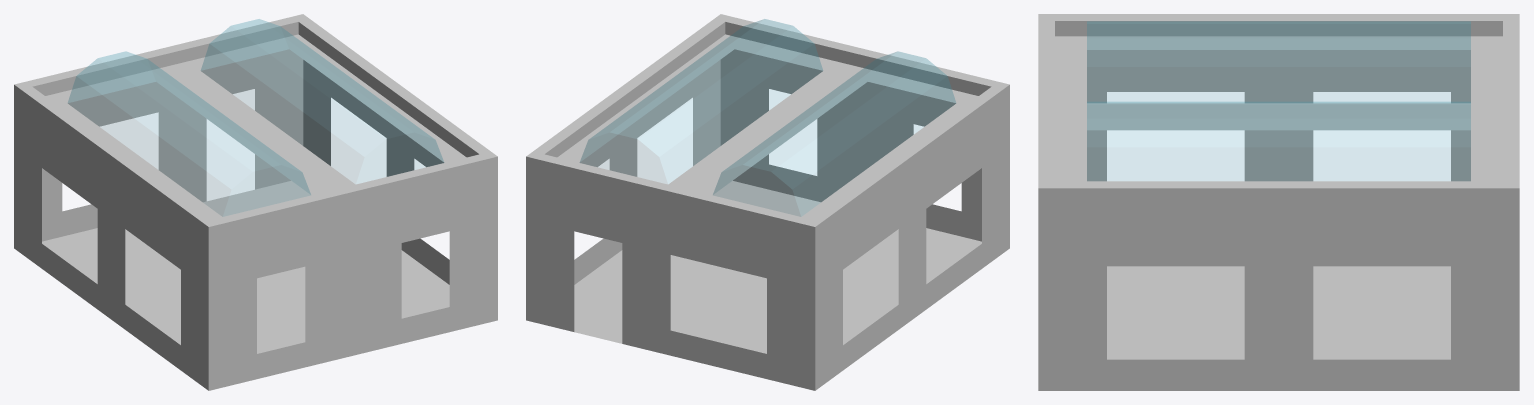
The model's file is fabrik.dae.
3 renders of one model, left to right at view 1: azimuth 30°, elevation 25°; view 2: azimuth 150°, elevation 25°; view 3: azimuth 270°, elevation 25°, orthographic. The views are drawn at different scales.
Parts seen in each view (by area): view 1: Plane; view 2: Plane; view 3: Plane.
Boxes of the visible parts, x1,y1,x2,y2 form: Plane: (14, 14, 497, 390); Plane: (526, 14, 1009, 390); Plane: (1038, 14, 1519, 390).
Size of the model in its own units: 12 by 14 by 7.5.
